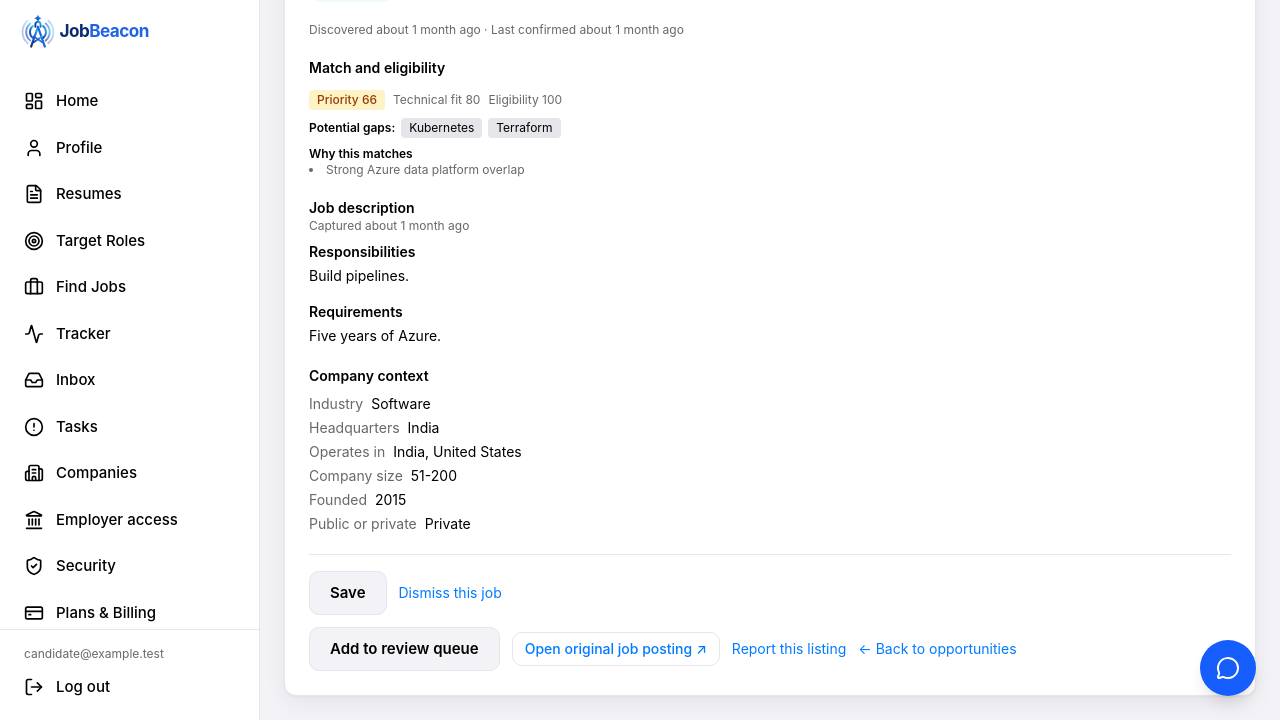
Test case: #/jobs/:jobId › submits a report with the chosen category and confirms it
(page scrolled)
Click the button "Report this listing" at coordinates (789, 649), box [732,639,846,659]
(page scrolled)
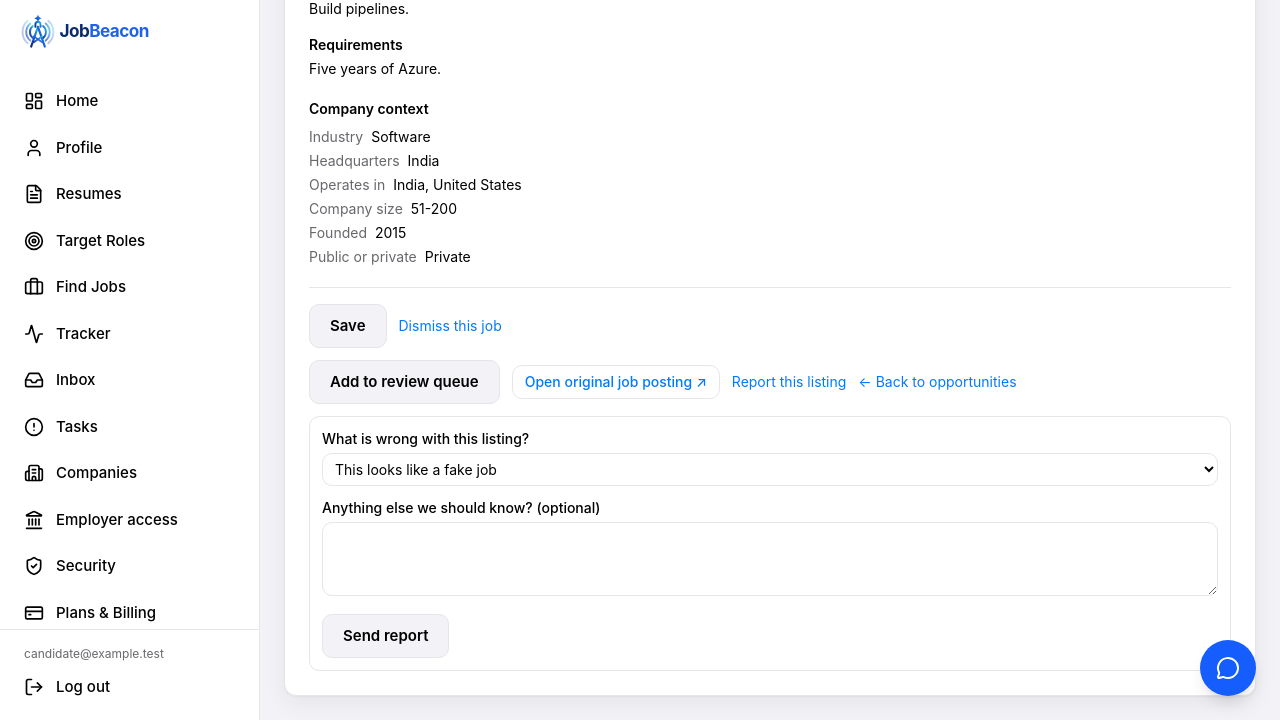
Select "This job has already expired" in the dropdown labelled "What is wrong with this listing?" at coordinates (770, 470), box [322,453,1218,486]
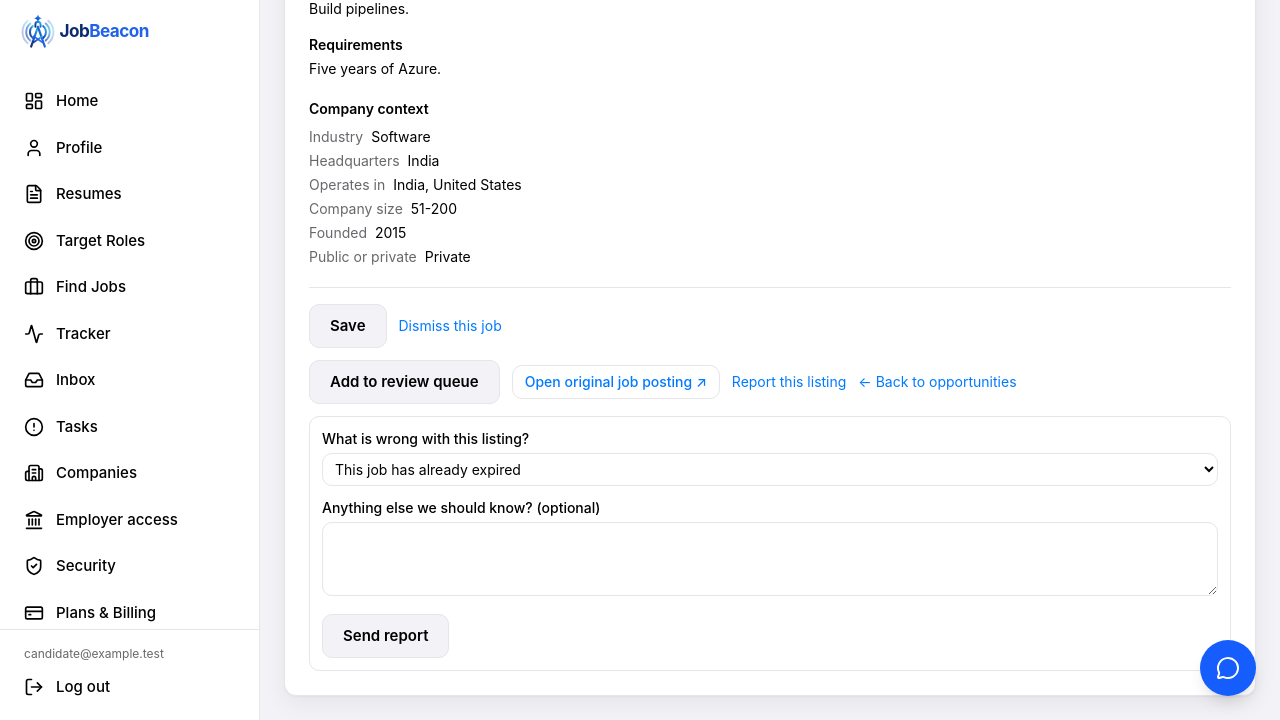
Type "Still open." into the text box labelled "Anything else we should know? (optional)" at coordinates (770, 559), box [322,522,1218,596]
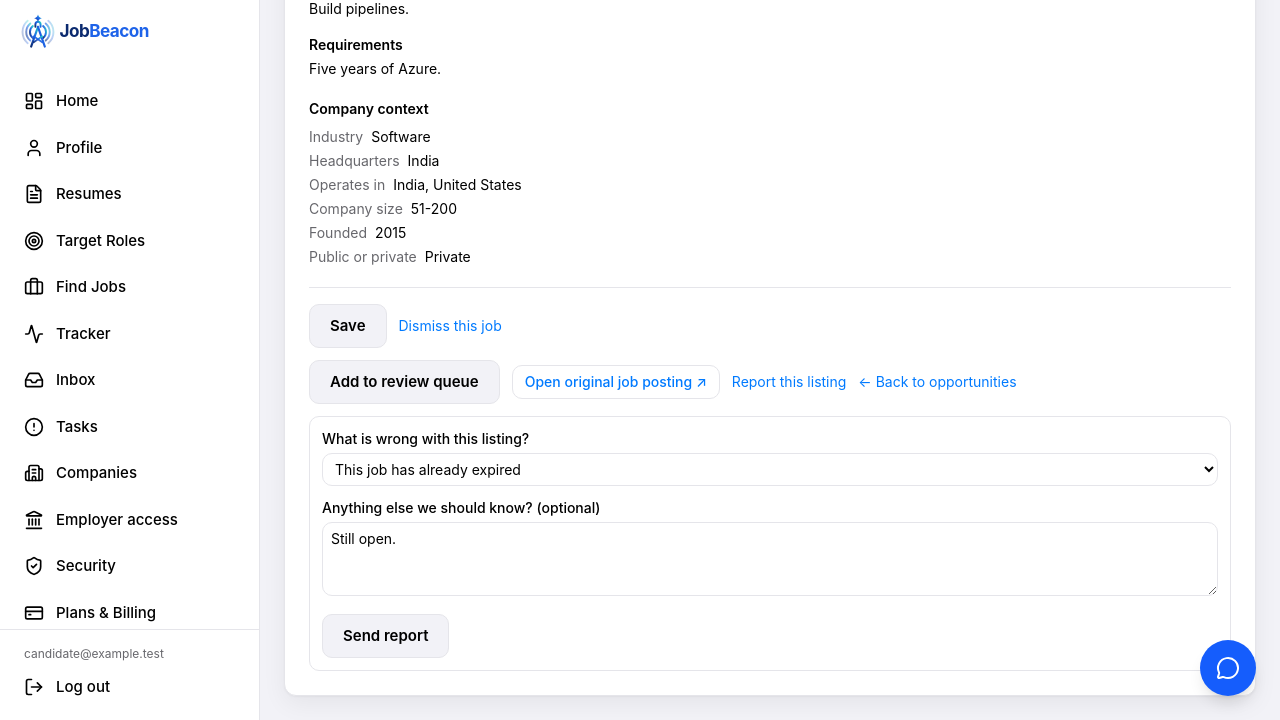
Click the button "Send report" at coordinates (386, 636), box [322,614,450,658]
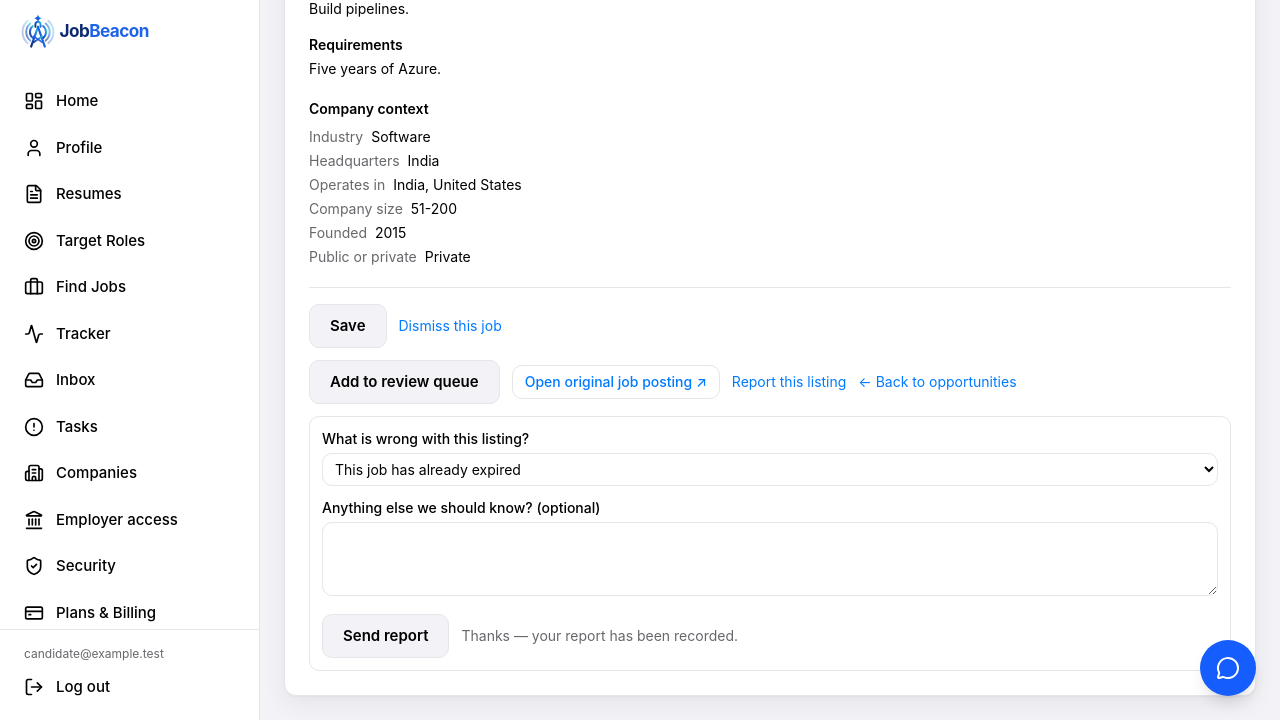
Now the text "Thanks — your report has been recorded." is shown, box [462,626,738,646]
